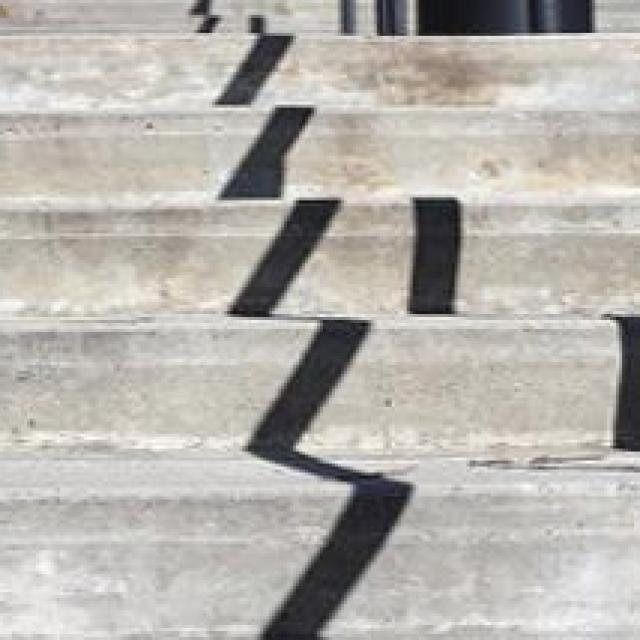upstair: (1, 22, 632, 476)
